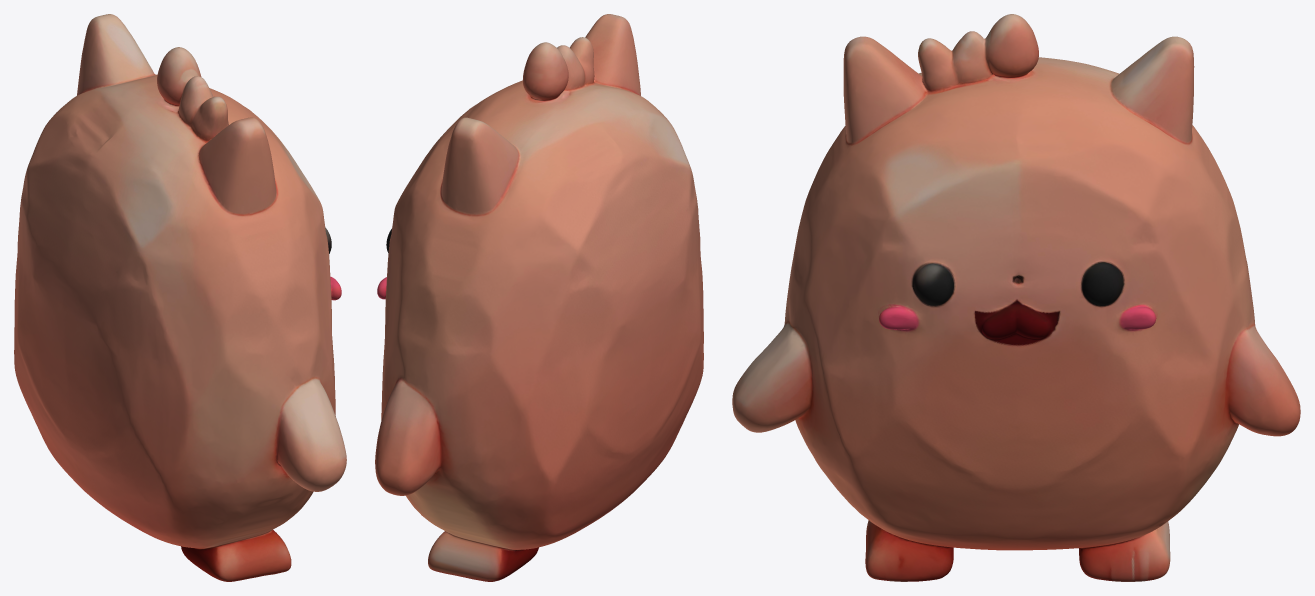
Rendered from tamagotchi.glb.
The picture shows the model from 3 angles, left to right: view 1: azimuth 30°, elevation 25°; view 2: azimuth 150°, elevation 25°; view 3: azimuth 270°, elevation 25°; orthographic projection. The views are drawn at different scales.
Parts seen in each view (by area): view 1: tripo_node_911e9c62-cf45-4691-9544-4fb899059873; view 2: tripo_node_911e9c62-cf45-4691-9544-4fb899059873; view 3: tripo_node_911e9c62-cf45-4691-9544-4fb899059873.
Part boxes in pixels (box(x1,y1,x2,y2)): tripo_node_911e9c62-cf45-4691-9544-4fb899059873: box(14, 14, 346, 581); tripo_node_911e9c62-cf45-4691-9544-4fb899059873: box(375, 14, 703, 581); tripo_node_911e9c62-cf45-4691-9544-4fb899059873: box(732, 14, 1300, 581).
Bounding box in the file's own units: 0.466 × 0.949 × 0.9009.
Materials: 1 (1 with a texture image).
